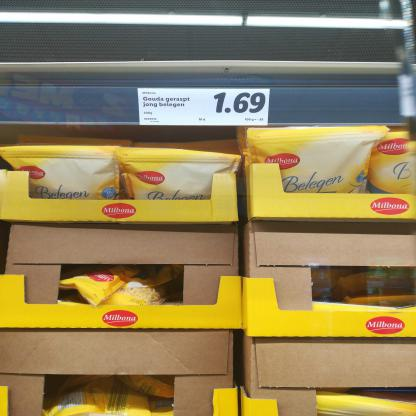prtg: (138, 89, 271, 127)
